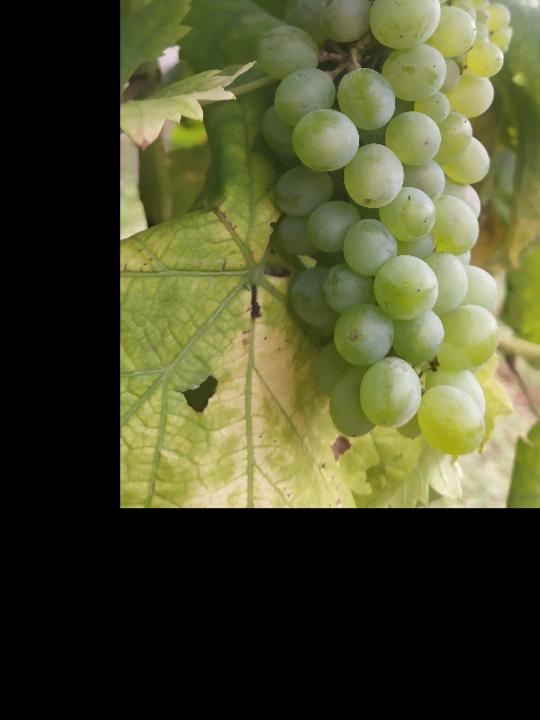grape: (252, 0, 506, 460)
